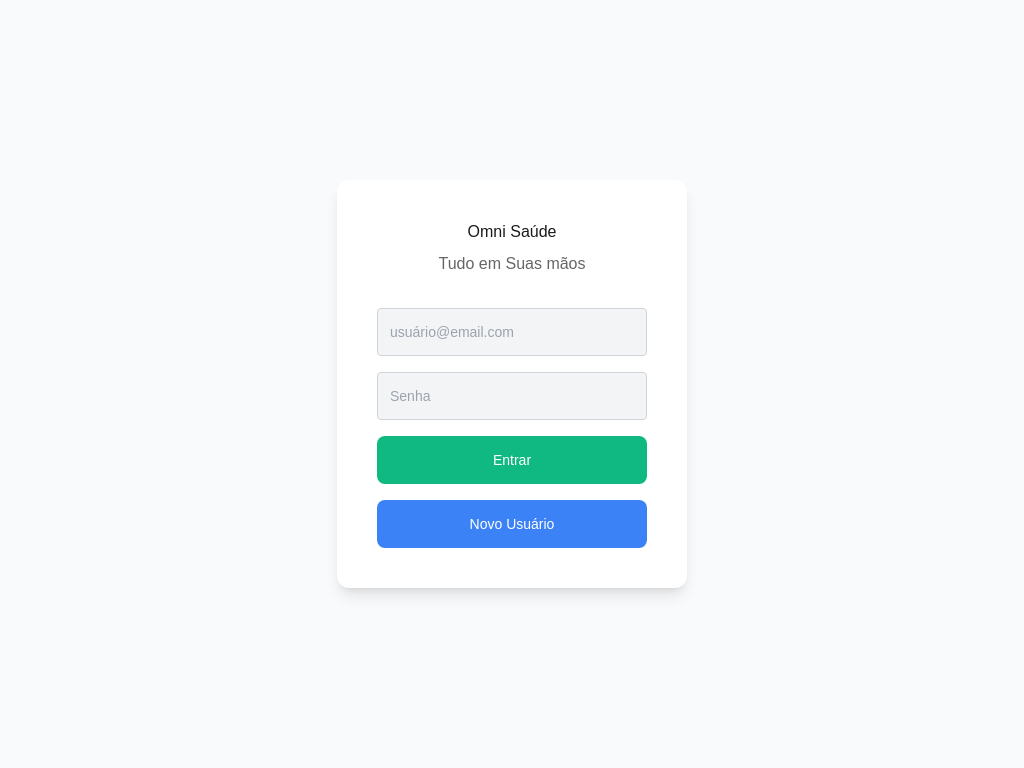
Test case: App › shows dashboard after login
The image size is (1024, 768).
Type "test@example.com" into the field with placeholder "usuário@email.com".
click(512, 332); type("test@example.com")  # box [377,308,647,356]
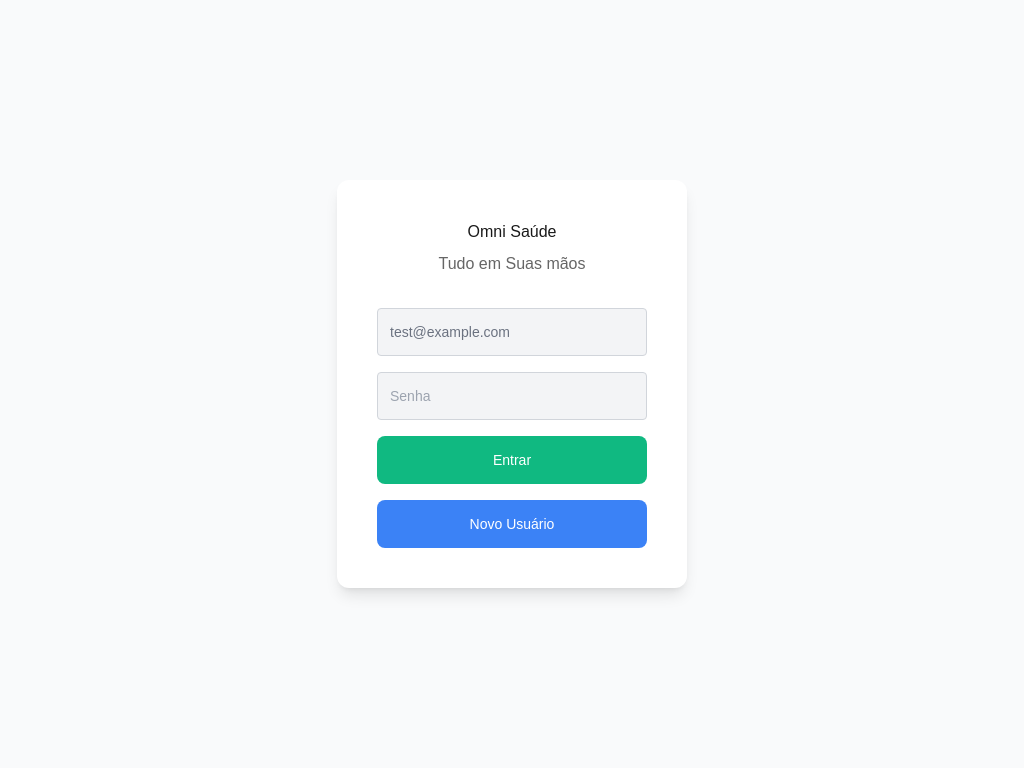
Type "password123" into the password field with placeholder "Senha".
click(512, 396); type("password123")  # box [377,372,647,420]
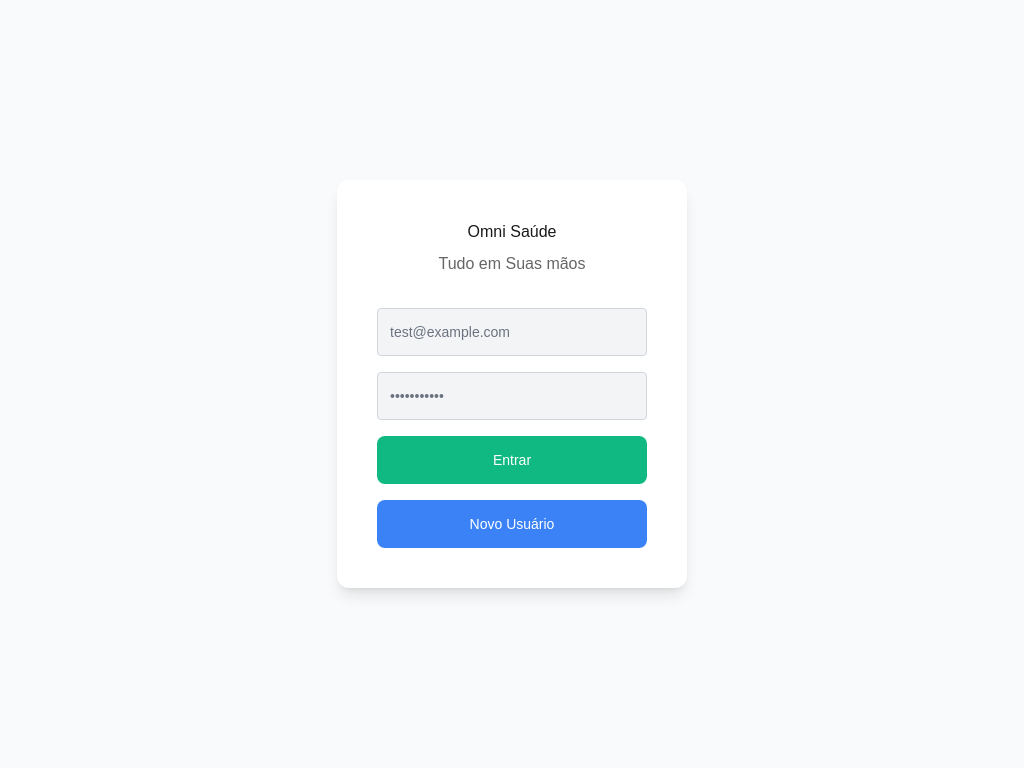
Click the button "Entrar".
click(512, 460)  # box [377,436,647,484]
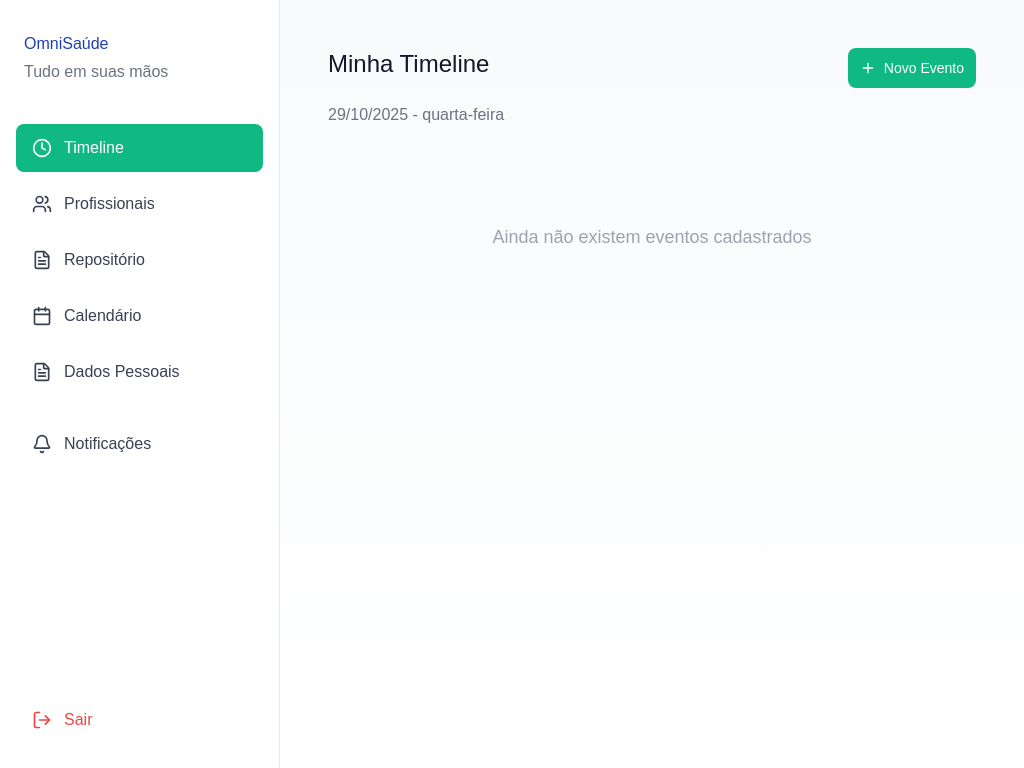
Expected: the heading "Minha Timeline" is shown, [328,48,489,80]
Expected: the heading "Omni Saúde" is gone
